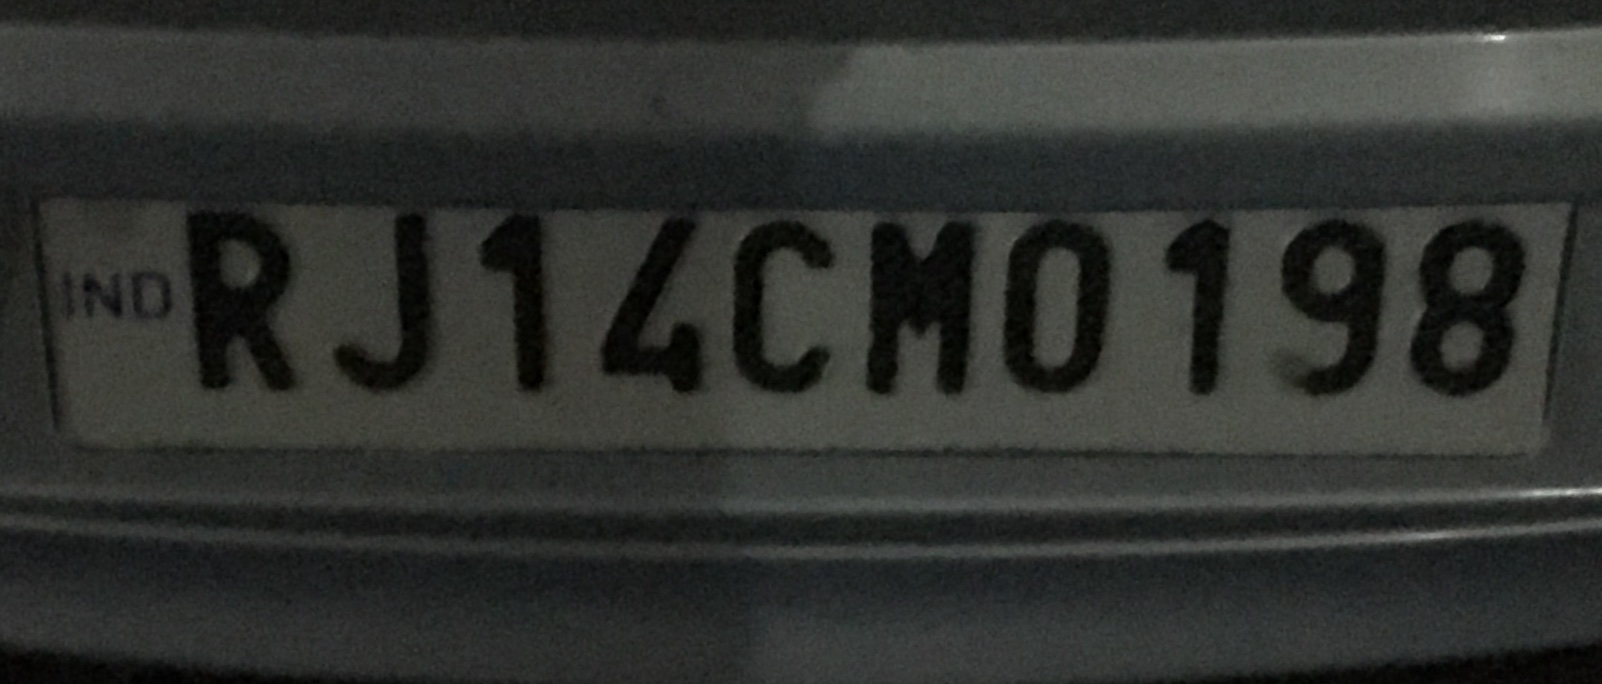numberplate: (32, 196, 1585, 462)
